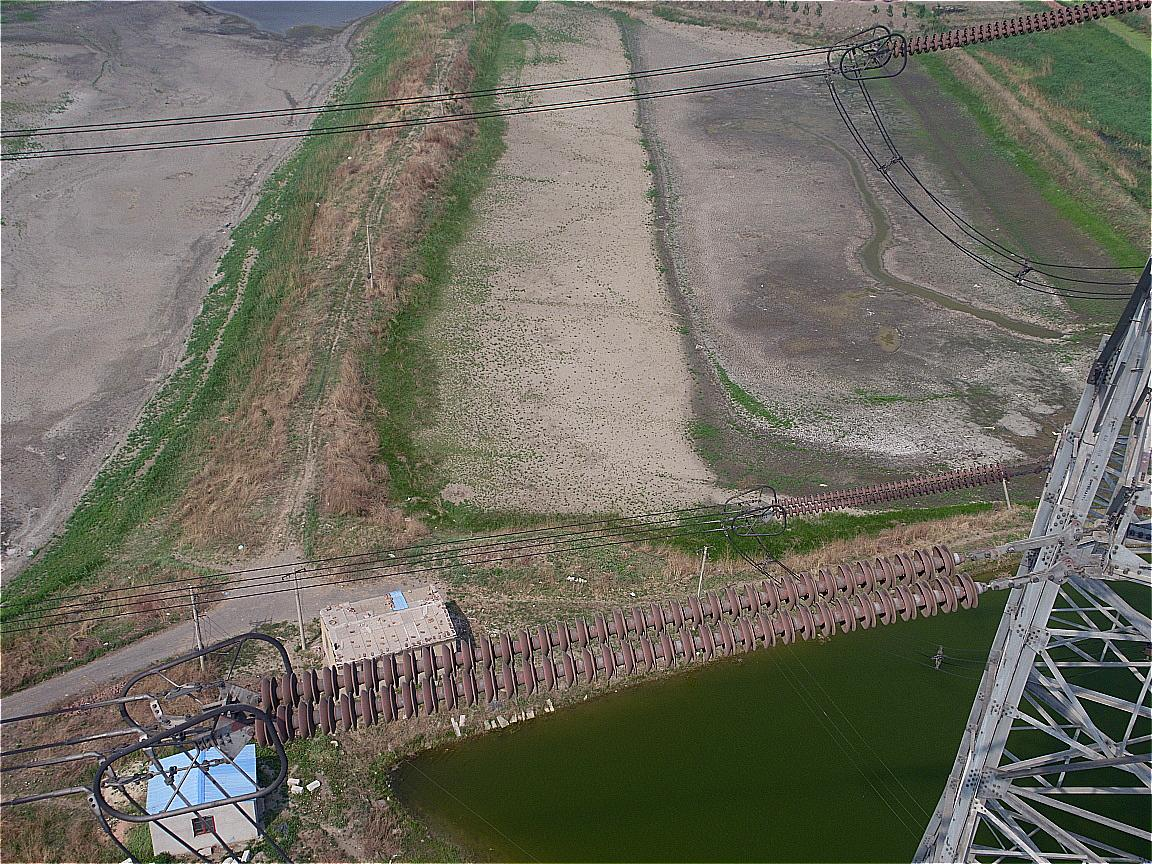insultor2: (249, 536, 997, 756)
